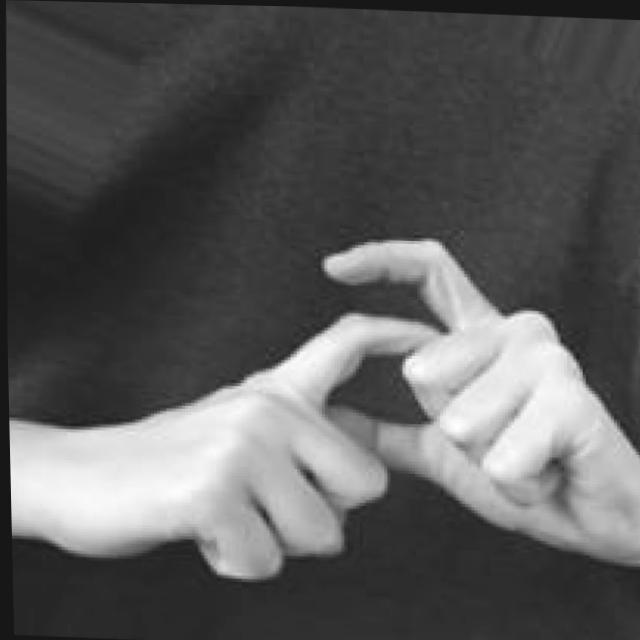G: (49, 223, 640, 594)
